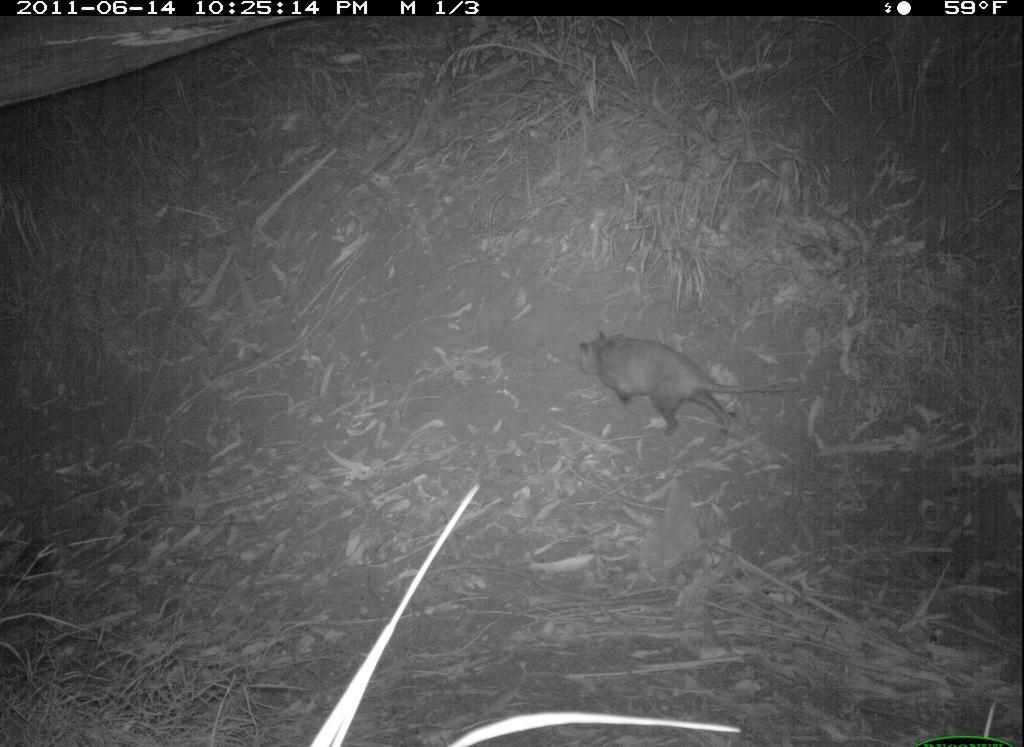opossum: (578, 322, 815, 440)
